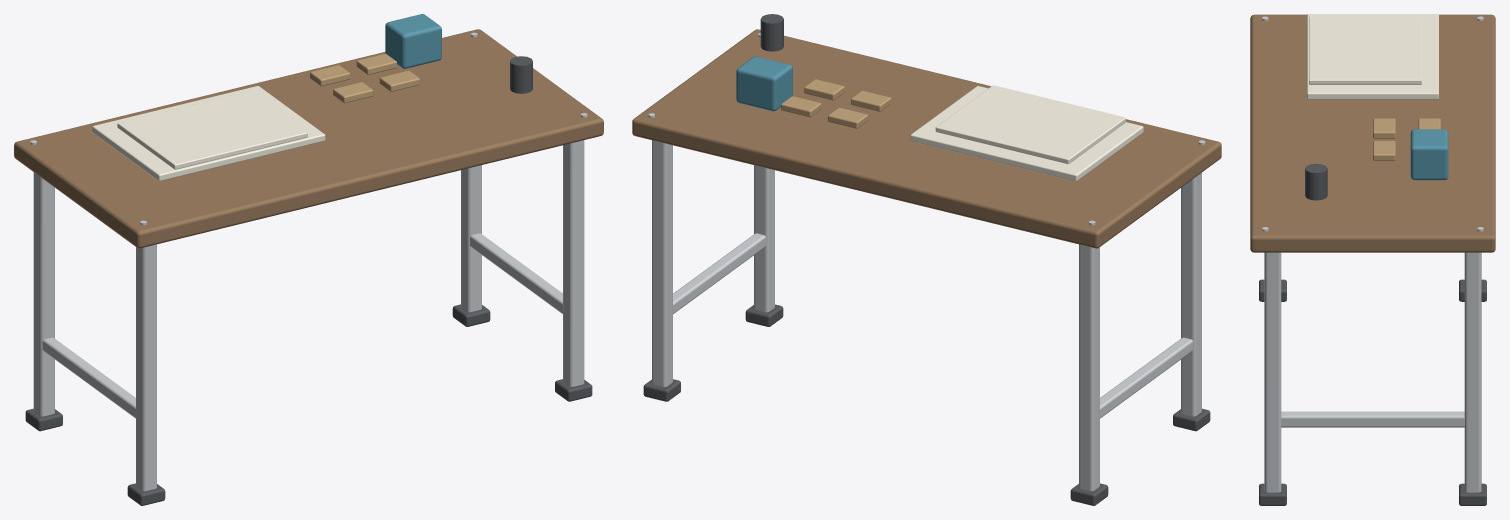
The model's file is geotechnical-soil-testing-laboratory-specimen-log-desk-18a00e74__39077.glb.
3 views of the same model, side by side, from view 1: azimuth 30°, elevation 25°; view 2: azimuth 150°, elevation 25°; view 3: azimuth 270°, elevation 25° (orthographic). The views are drawn at different scales.
Visible parts, largest first — view 1: specimen-log-desk; view 2: specimen-log-desk; view 3: specimen-log-desk.
Boxes of the visible parts, bbox=[...] form: specimen-log-desk: bbox=[14, 14, 603, 505]; specimen-log-desk: bbox=[632, 14, 1221, 505]; specimen-log-desk: bbox=[1250, 14, 1495, 505].
Bounding box in the file's own units: 1.4 × 0.95 × 0.65.
